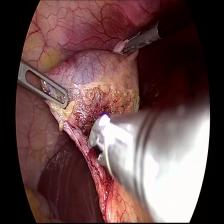Clipper: (86, 113, 134, 180)
Grasper: (15, 61, 70, 113), (118, 23, 165, 61)
